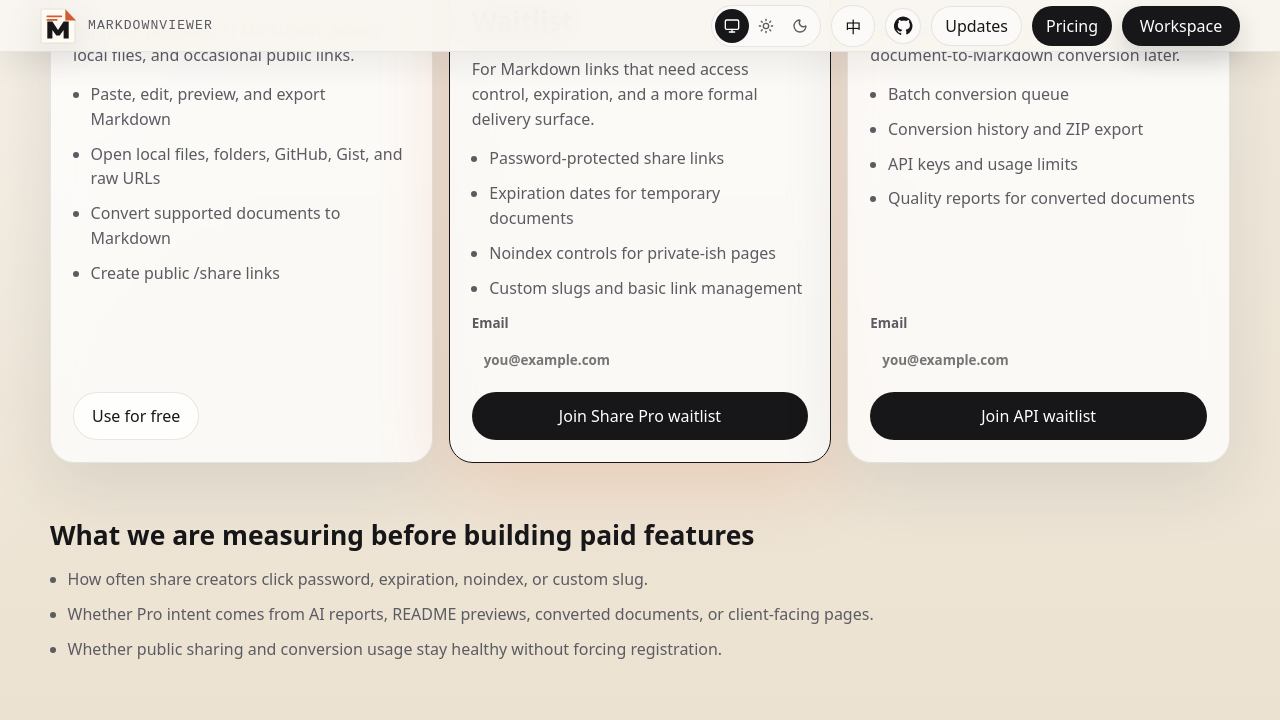
pricing page › shows an already verified message for duplicate verified submissions
The width and height of the screenshot is (1280, 720).
(page scrolled)
In the field labelled "Email" below "Custom slugs and basic link management": point(640, 360) [472, 338, 808, 382], type "reader@example.com"
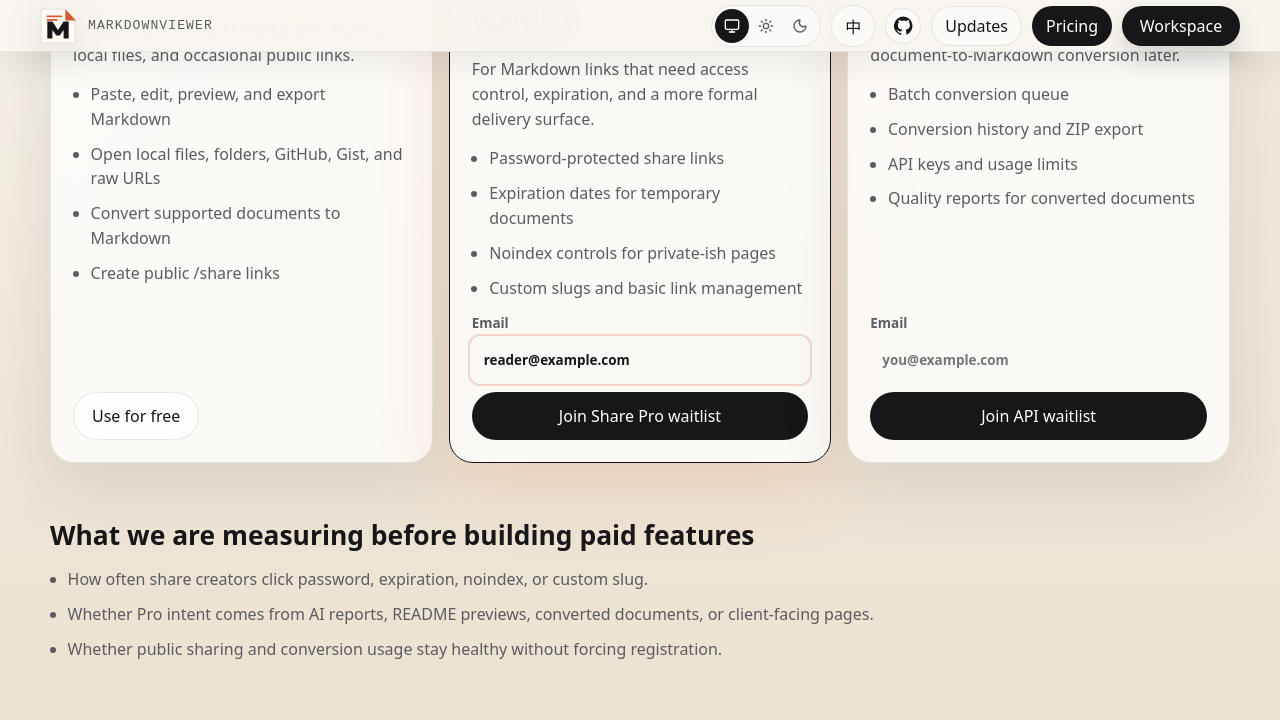
Click the button "Join Share Pro waitlist": point(640, 416) [472, 392, 808, 440]
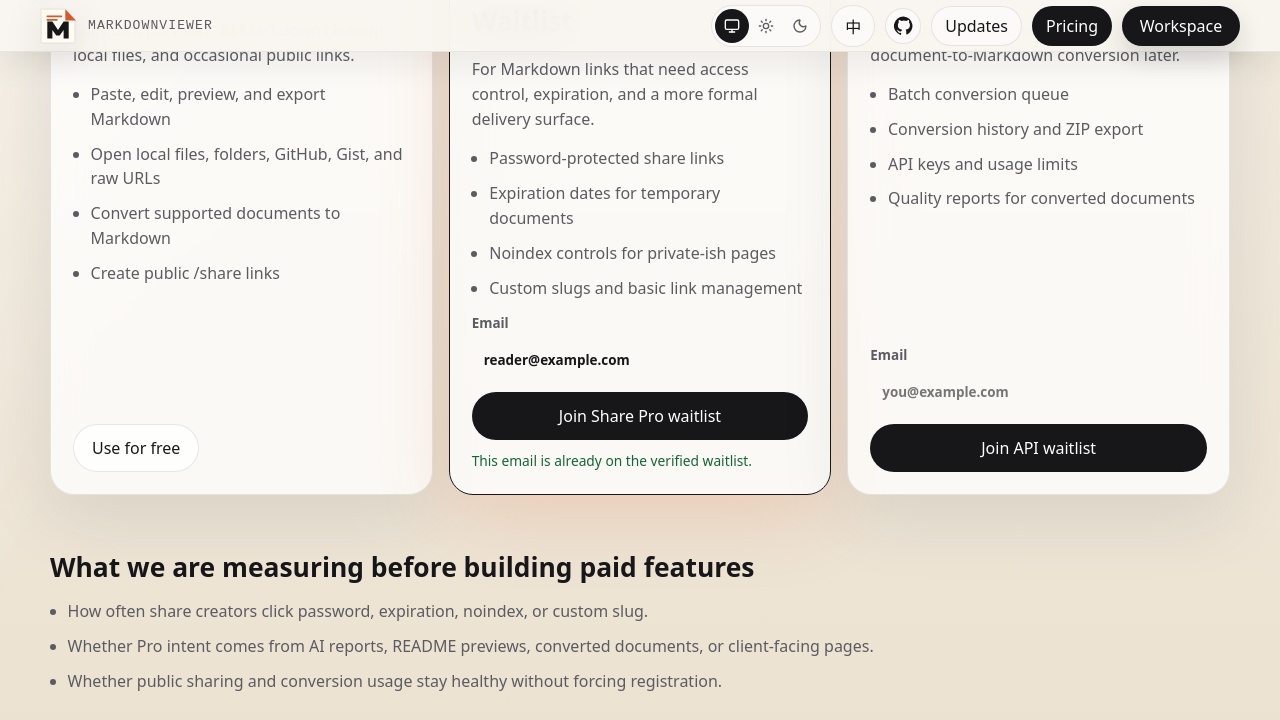
Now the text "This email is already on the verified waitlist." is shown, box [472, 451, 752, 470]
